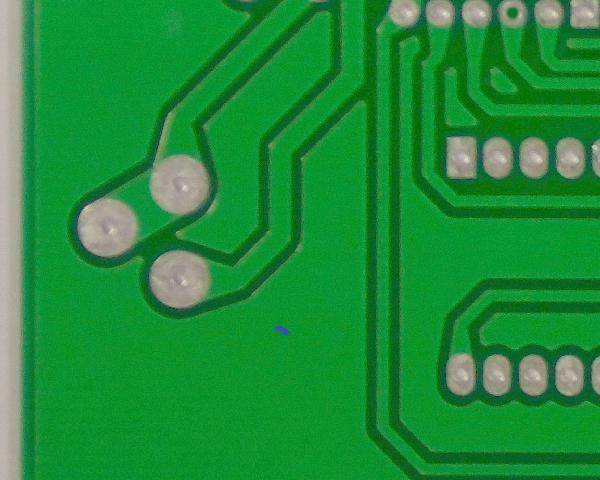missing hole: (492, 1, 533, 32)
